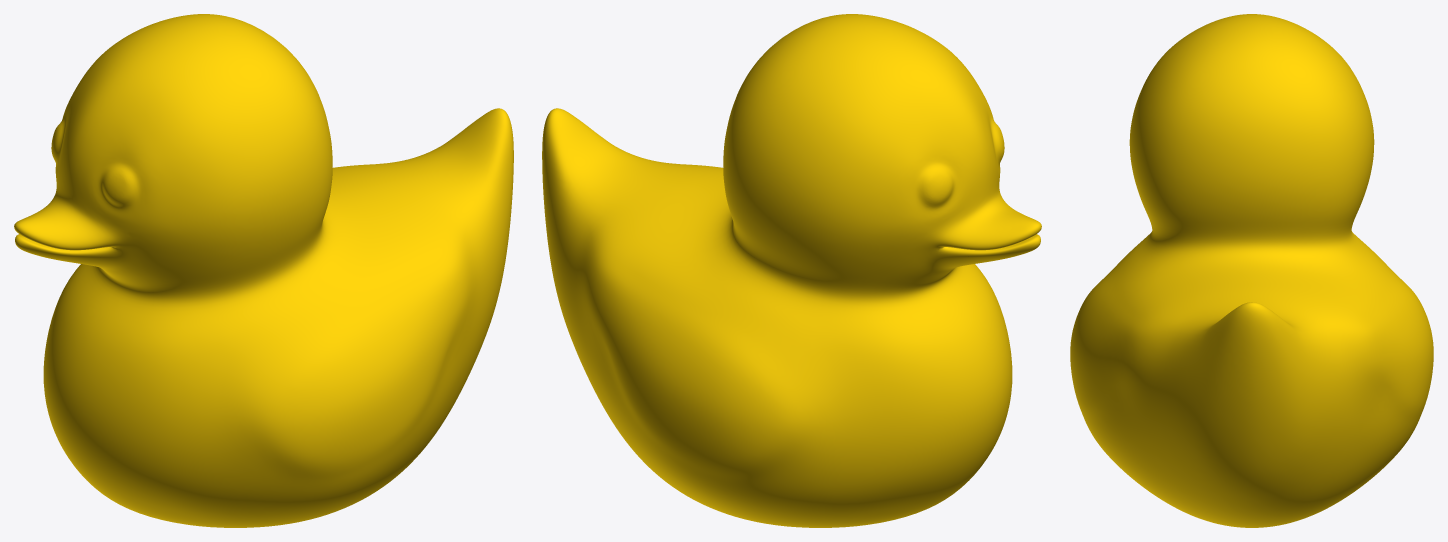
The model's file is duck.glb.
The picture shows the model from 3 angles, left to right: view 1: azimuth 30°, elevation 25°; view 2: azimuth 150°, elevation 25°; view 3: azimuth 270°, elevation 25°; orthographic projection. The views are drawn at different scales.
Visible parts, largest first — view 1: M_duckToy_HP; view 2: M_duckToy_HP; view 3: M_duckToy_HP.
Boxes of the visible parts, x1,y1,x2,y2 form: M_duckToy_HP: (14,14,513,527); M_duckToy_HP: (542,14,1041,527); M_duckToy_HP: (1070,14,1433,527).
Size of the model in its own units: 7.57 by 7.18 by 5.34.
